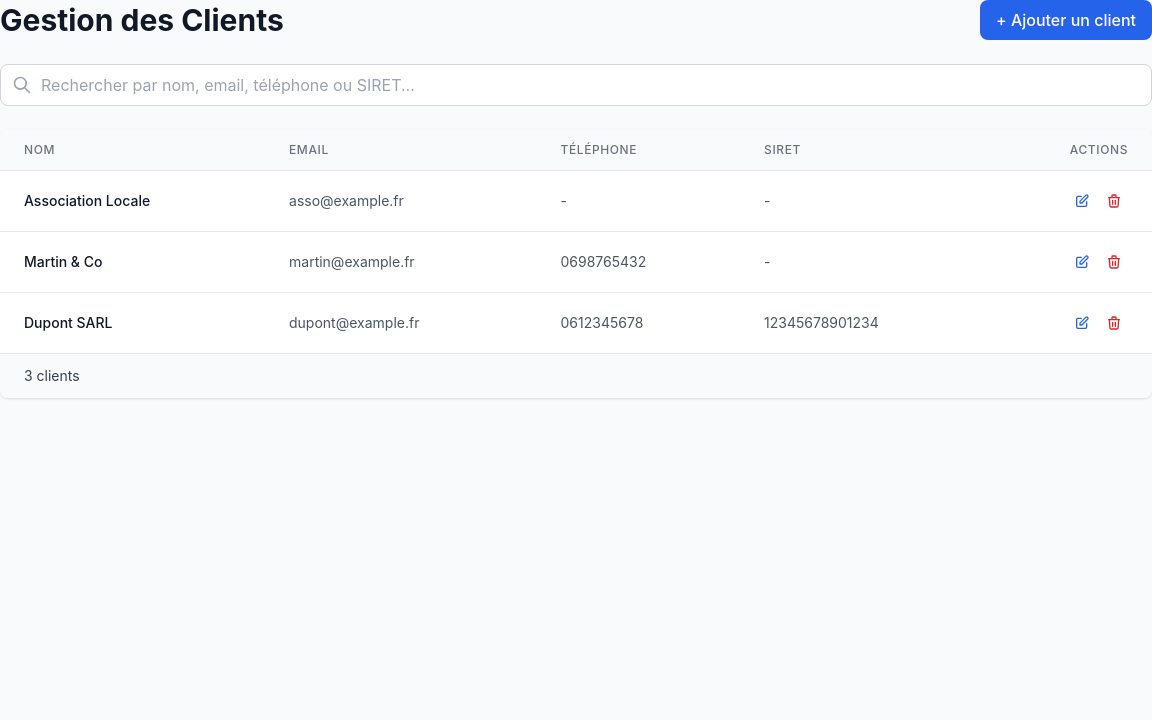
Test: Clients page › opens add modal with correct title when clicking add button
Click the button "+ Ajouter un client" at [1066, 20], box x1=980 y1=0 x2=1151 y2=40
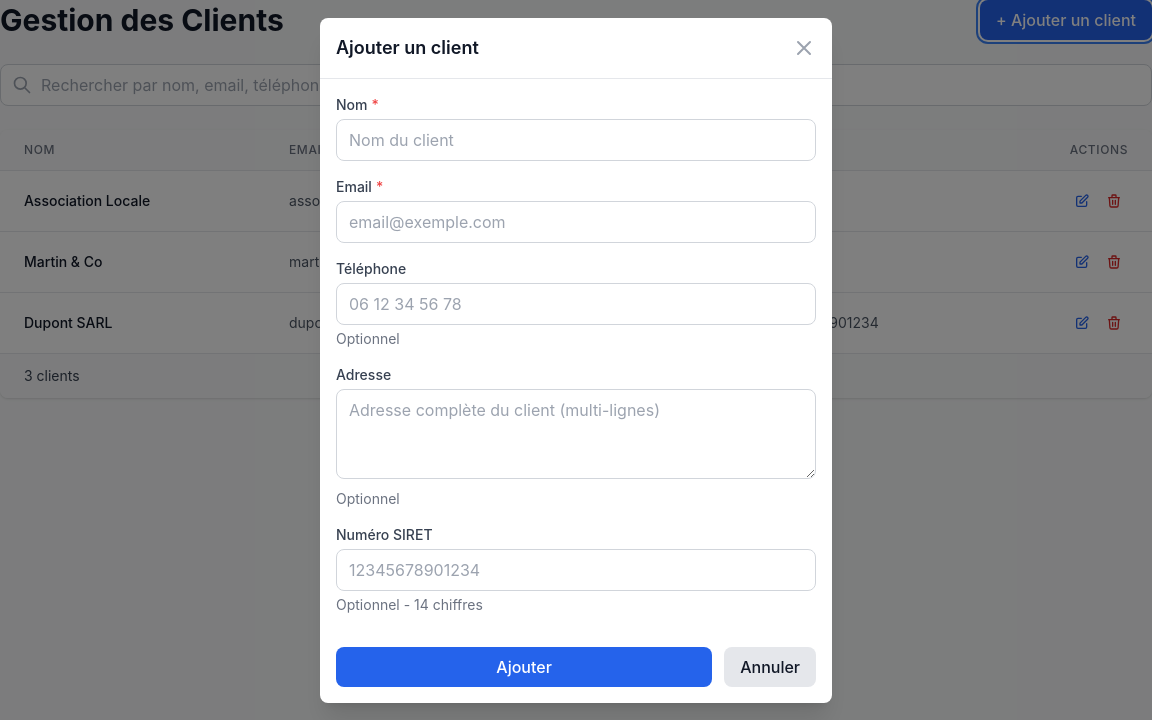
Now the heading "Ajouter un client" is shown, box x1=336 y1=34 x2=479 y2=62
